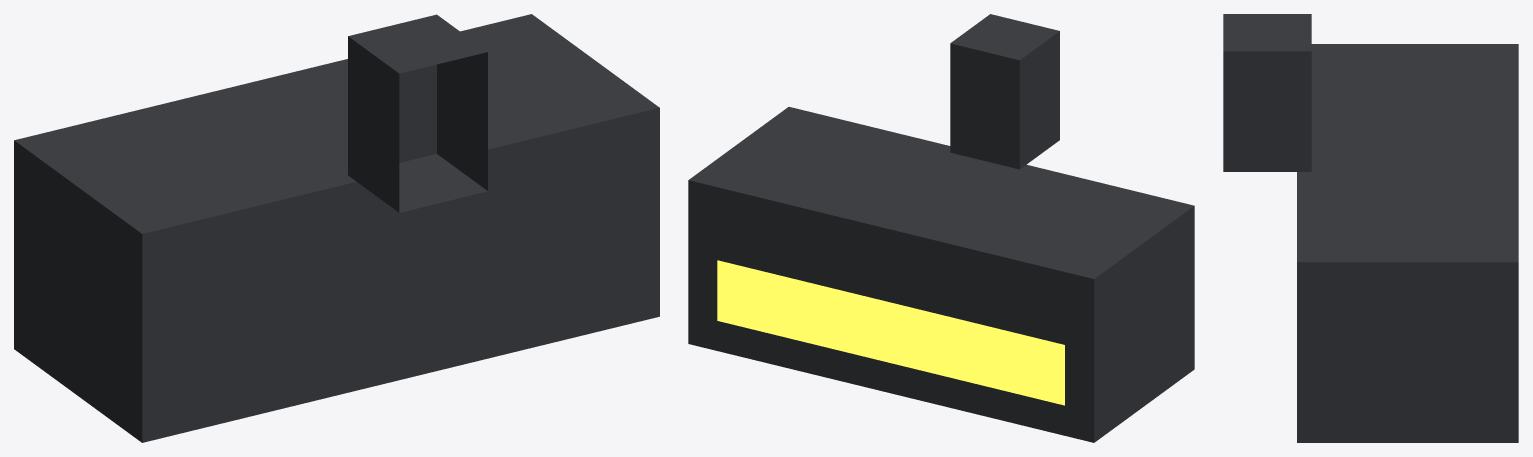
File: ws_work_lamp.glb
3 renders of one model, left to right at view 1: azimuth 30°, elevation 25°; view 2: azimuth 150°, elevation 25°; view 3: azimuth 270°, elevation 25°, orthographic. The views are drawn at different scales.
Parts seen in each view (by area): view 1: ws_work_lamp; view 2: ws_work_lamp; view 3: ws_work_lamp.
Part boxes in pixels (x1=…): ws_work_lamp: x1=14, y1=14, x2=659, y2=442; ws_work_lamp: x1=688, y1=14, x2=1194, y2=442; ws_work_lamp: x1=1223, y1=14, x2=1518, y2=442.
Size of the model in its own units: 0.35 by 0.2252 by 0.2002.
